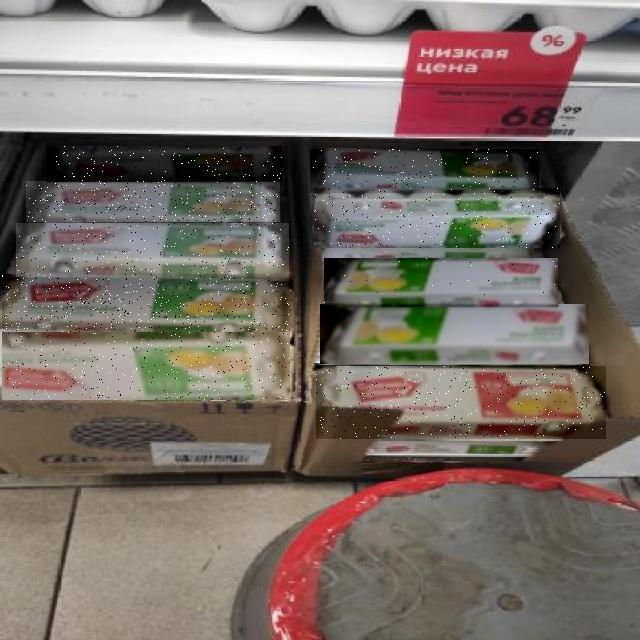Eggs: (316, 366, 606, 439), (2, 332, 290, 400), (2, 274, 292, 332), (320, 305, 589, 365), (314, 189, 560, 249), (16, 223, 289, 277), (324, 258, 558, 307), (26, 181, 280, 222), (310, 149, 539, 193), (46, 147, 282, 183)
